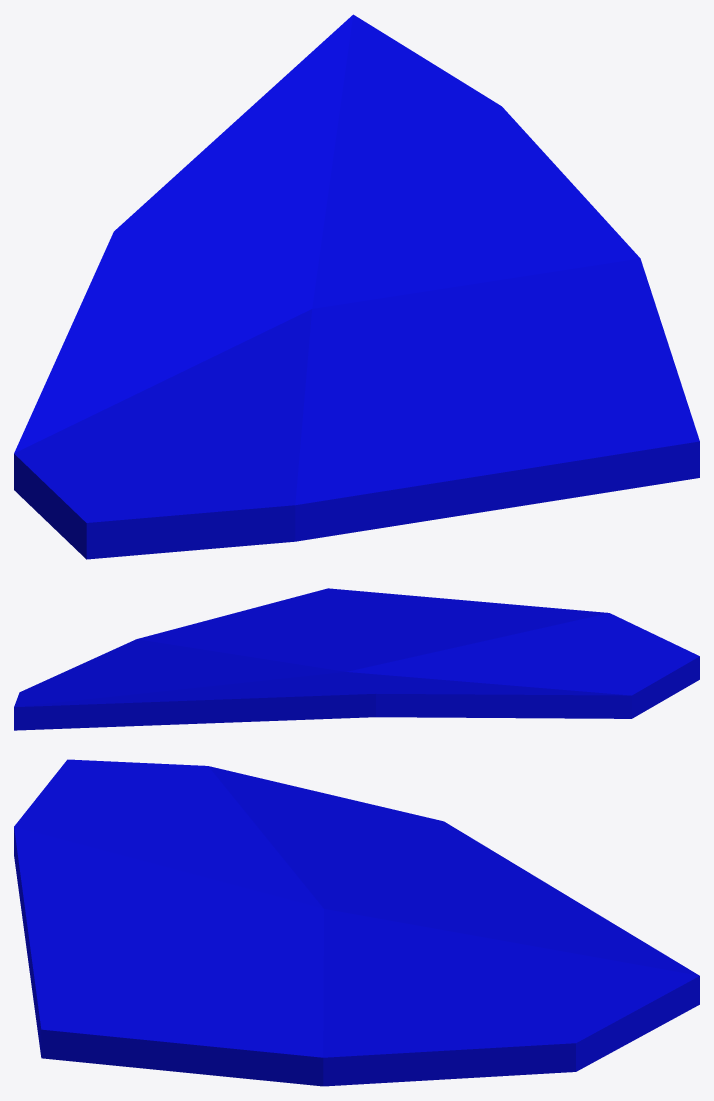
File: komono29.fbx
3 views of the same model, one above another, from view 1: azimuth 30°, elevation 25°; view 2: azimuth 150°, elevation 25°; view 3: azimuth 270°, elevation 25° (orthographic). The views are drawn at different scales.
Visible parts, largest first — view 1: Cube.006; view 2: Cube.006; view 3: Cube.006.
Boxes of the visible parts, bbox=[...] form: Cube.006: bbox=[14, 14, 699, 559]; Cube.006: bbox=[14, 588, 699, 730]; Cube.006: bbox=[14, 759, 699, 1086].
Size of the model in its own units: 365 by 65.97 by 373.
